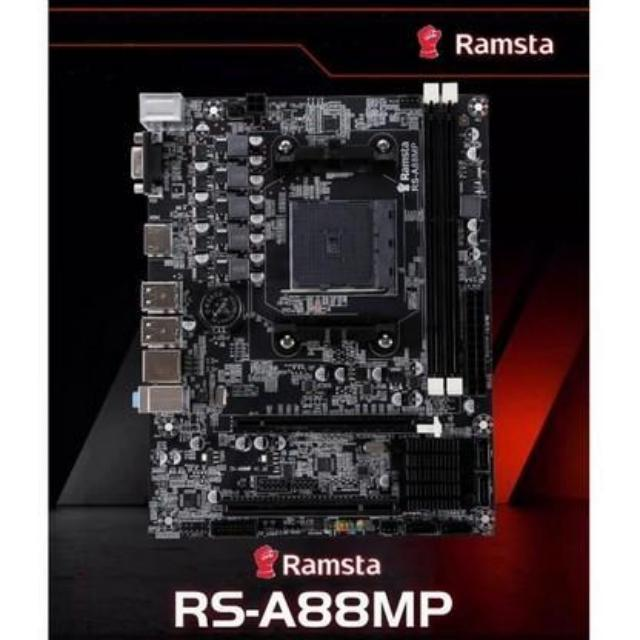Mainboard: (128, 80, 504, 551)
